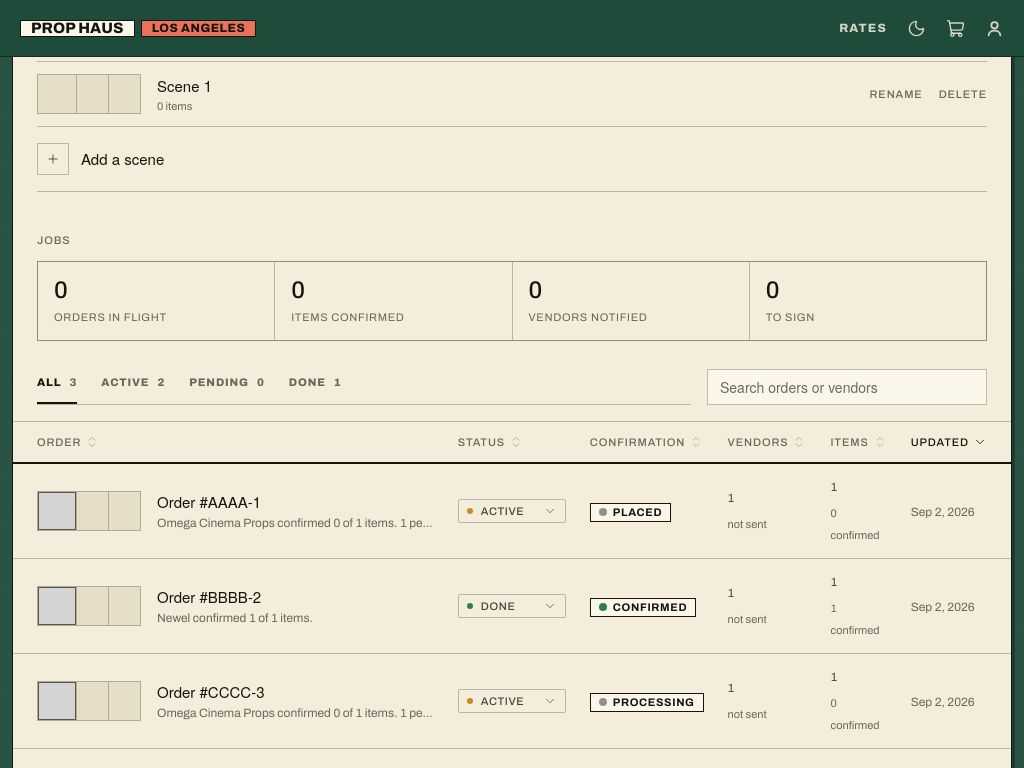
Test: ProjectPage › Jobs section › filters orders by the status tabs and the search box
This screenshot has width=1024, height=768.
(page scrolled)
expect the number of links "Order #AAAA-1" is 3: met, box [157, 490, 261, 512]; [157, 586, 261, 606]; [157, 680, 264, 702]
Click the tab "Done 1" at (315, 384), box [289, 364, 342, 404]
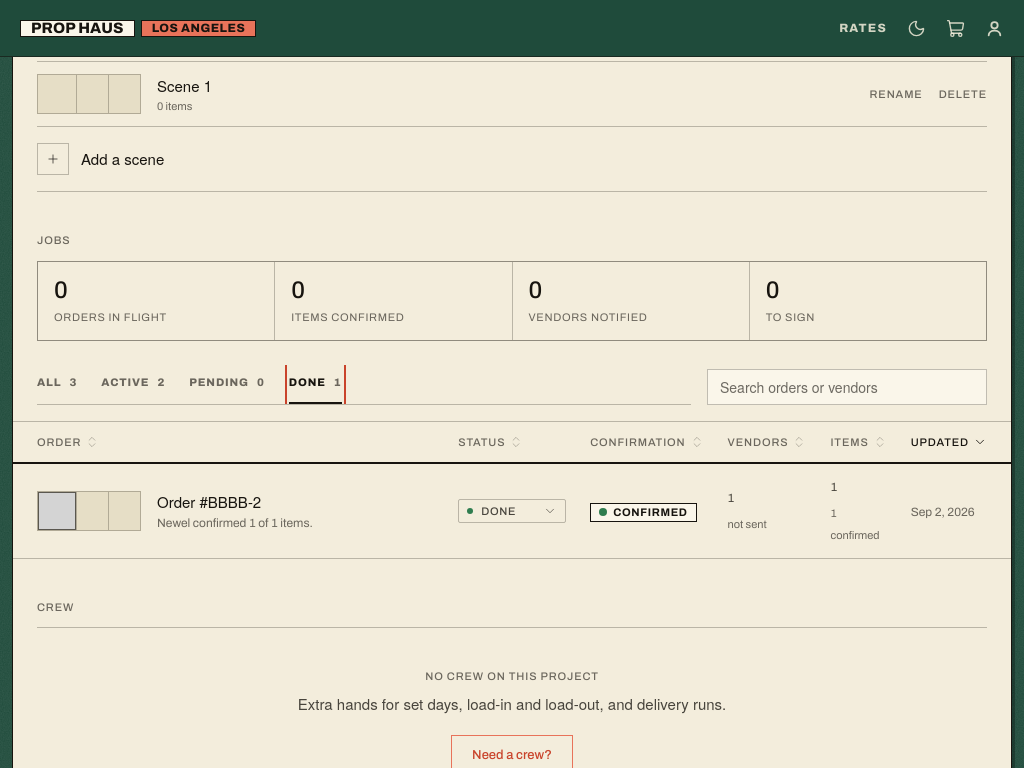
expect the links "Order #" read "Order #BBBB-2", in this order: met, box [157, 490, 261, 512]
Click the tab "All 3" at (57, 384), box [37, 364, 77, 404]
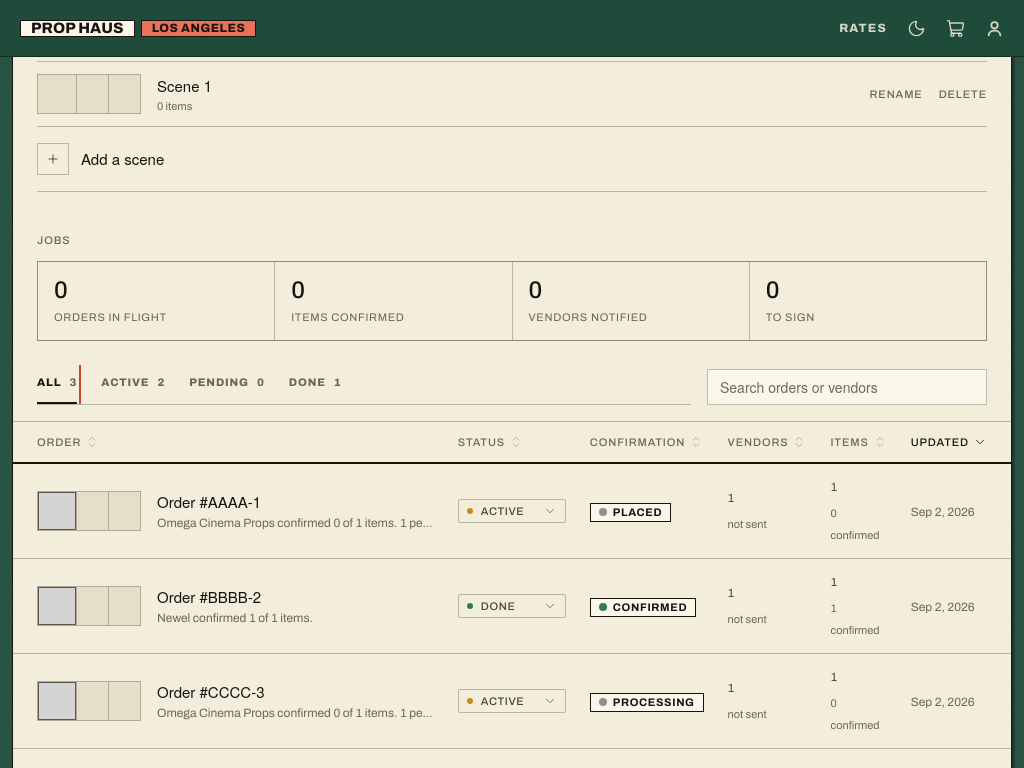
Type "newel" into the search field labelled "Search orders" at (847, 386), box [707, 368, 987, 404]
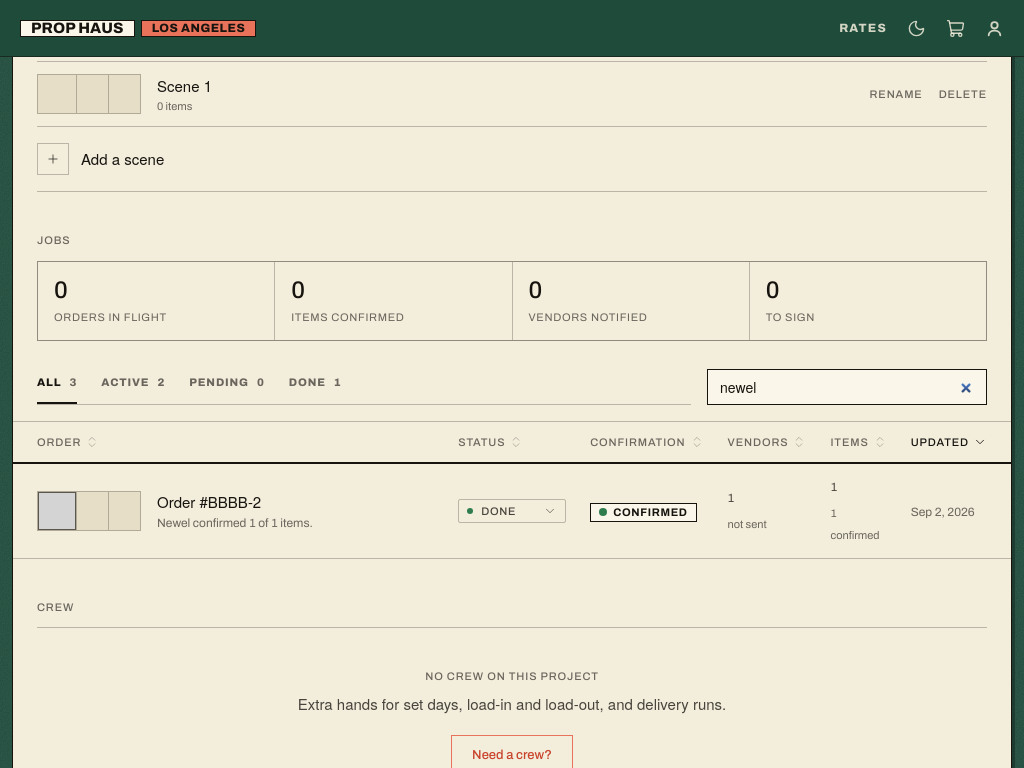
expect the links "Order #" read "Order #BBBB-2", in this order: met, box [157, 490, 261, 512]
Replace the text in the search field named "Search orders" with "zzzz" at (847, 386), box [707, 368, 987, 404]
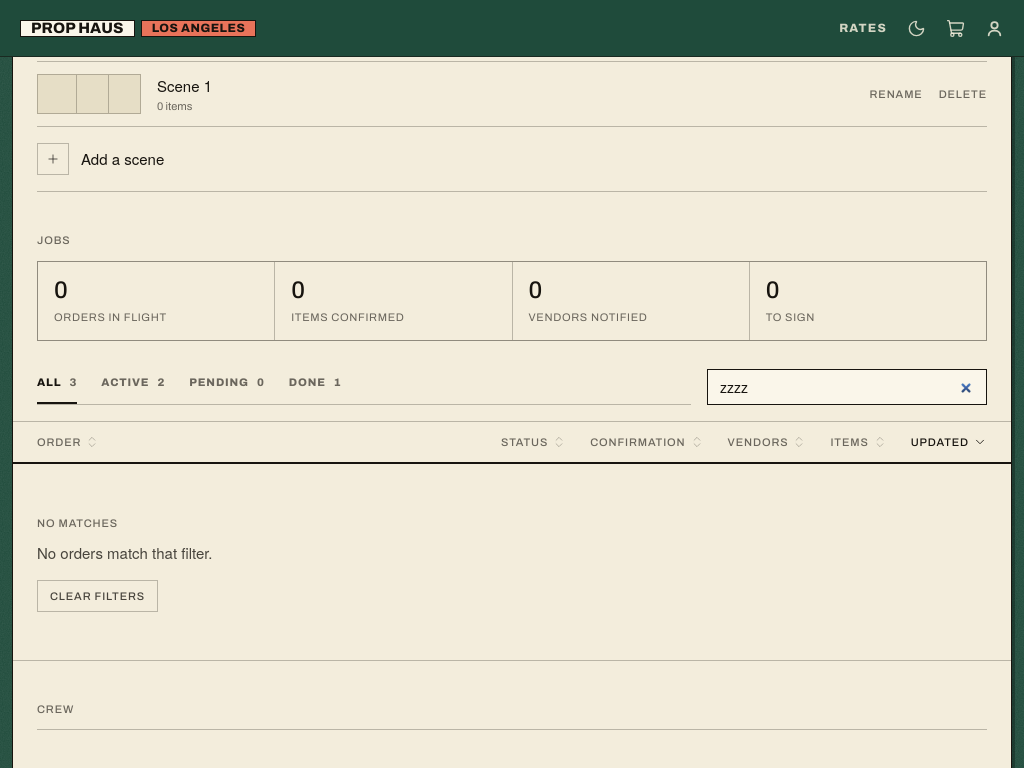
expect the text "No orders match that filter." is shown: met, box [37, 542, 212, 562]
Click the button "Clear filters" at (98, 596), box [37, 580, 158, 612]
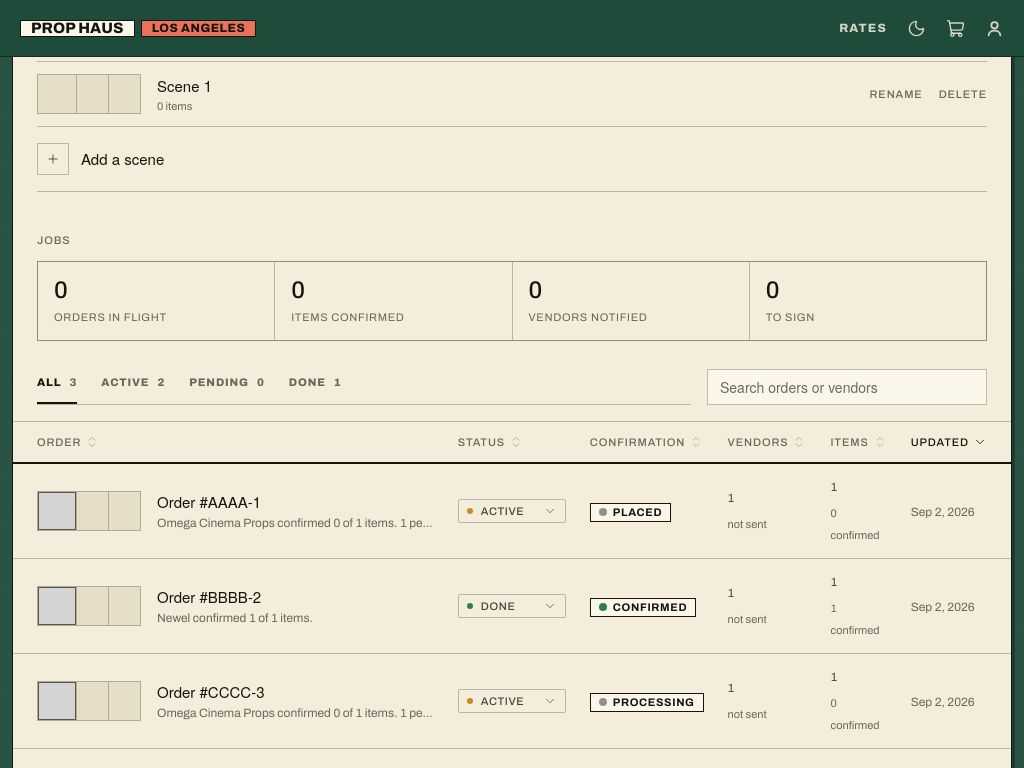
expect the number of links "Order #AAAA-1" is 3: met, box [157, 490, 261, 512]; [157, 586, 261, 606]; [157, 680, 264, 702]
